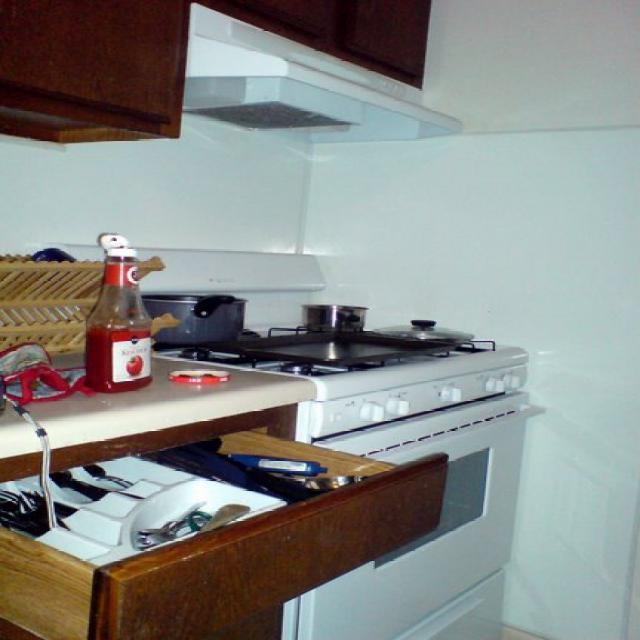baking pan: (212, 331, 461, 368)
drawer handle: (1, 429, 446, 638)
ketchup bottle: (81, 233, 153, 393)
pot hanger: (129, 292, 249, 351), (305, 300, 369, 331)
stove: (181, 2, 464, 143)
stove burner: (49, 242, 530, 639)
